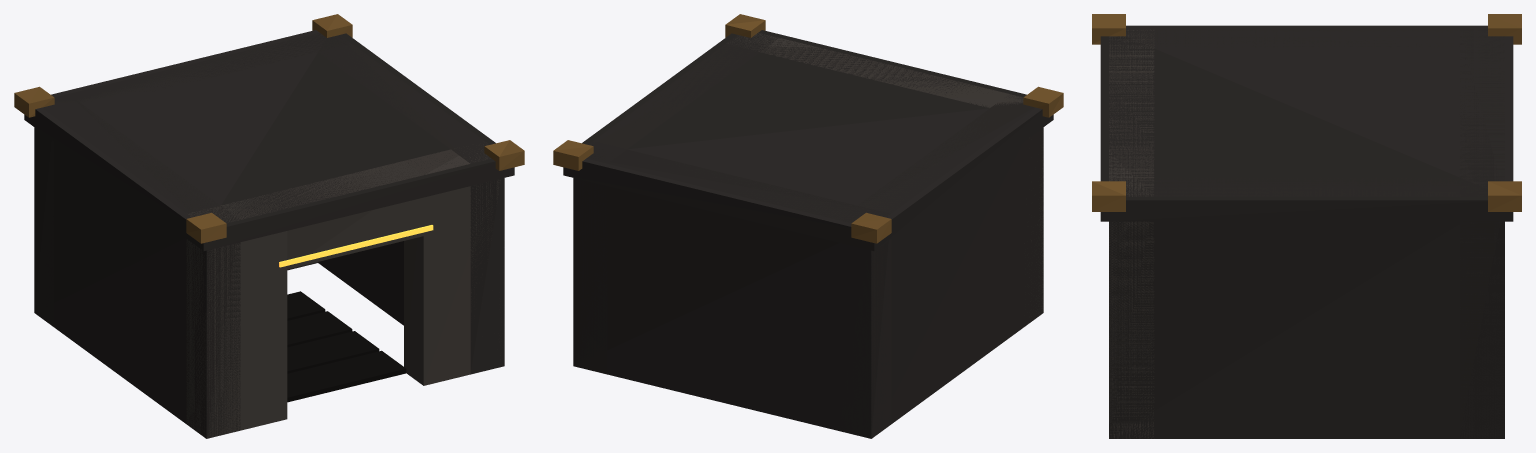
File: foundry-stairhead-a.glb
The picture shows the model from 3 angles, left to right: view 1: azimuth 30°, elevation 25°; view 2: azimuth 150°, elevation 25°; view 3: azimuth 270°, elevation 25°; orthographic projection. The views are drawn at different scales.
Visible parts, largest first — view 1: foundry-stairhead-a; view 2: foundry-stairhead-a; view 3: foundry-stairhead-a.
Boxes of the visible parts, <box> form: foundry-stairhead-a: <box>14,14,524,438</box>; foundry-stairhead-a: <box>553,14,1063,438</box>; foundry-stairhead-a: <box>1092,14,1521,438</box>.
Bounding box in the file's own units: 7 × 4.5 × 7.
